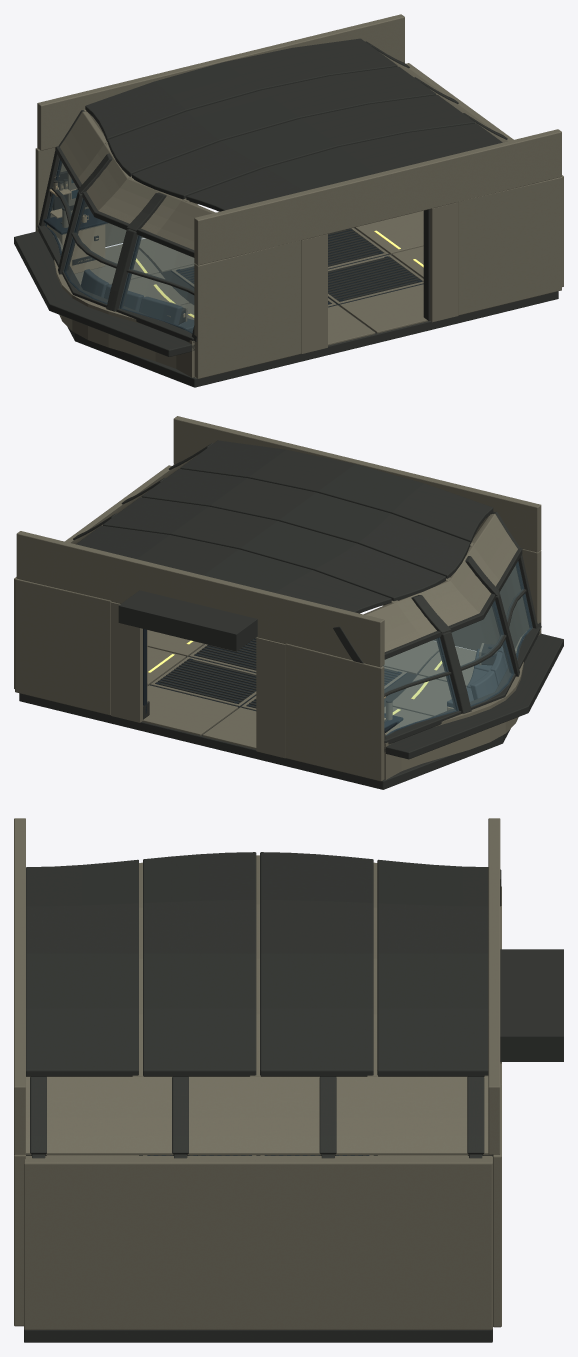
File: cruz-del-sur-arrival-room.glb
3 views of the same model, one above another, from view 1: azimuth 30°, elevation 25°; view 2: azimuth 150°, elevation 25°; view 3: azimuth 270°, elevation 25° (orthographic). The views are drawn at different scales.
Visible parts, largest first — view 1: ARRIVAL_RUNTIME_ARRIVAL_V4_Warm_grey_panels_runtime, ARRIVAL_RUNTIME_ARRIVAL_V4_Graphite_frame_runtime, ARRIVAL_RUNTIME_ARRIVAL_V4_Glazing_runtime, ARRIVAL_RUNTIME_ARRIVAL_V4_Gaskets_runtime, ARRIVAL_RUNTIME_ARRIVAL_V4_Bench_cushions_runtime, ARRIVAL_RUNTIME_ARRIVAL_V4_Ivory_cabinets_runtime; view 2: ARRIVAL_RUNTIME_ARRIVAL_V4_Warm_grey_panels_runtime, ARRIVAL_RUNTIME_ARRIVAL_V4_Graphite_frame_runtime, ARRIVAL_RUNTIME_ARRIVAL_V4_Glazing_runtime, ARRIVAL_RUNTIME_ARRIVAL_V4_Gaskets_runtime, ARRIVAL_RUNTIME_ARRIVAL_V4_Bench_cushions_runtime; view 3: ARRIVAL_RUNTIME_ARRIVAL_V4_Warm_grey_panels_runtime, ARRIVAL_RUNTIME_ARRIVAL_V4_Graphite_frame_runtime.
Boxes of the visible parts, x1,y1,x2,y2 form: ARRIVAL_RUNTIME_ARRIVAL_V4_Warm_grey_panels_runtime: (35,14,563,378); ARRIVAL_RUNTIME_ARRIVAL_V4_Graphite_frame_runtime: (14,38,558,387); ARRIVAL_RUNTIME_ARRIVAL_V4_Glazing_runtime: (45,159,193,332); ARRIVAL_RUNTIME_ARRIVAL_V4_Gaskets_runtime: (43,159,423,333); ARRIVAL_RUNTIME_ARRIVAL_V4_Bench_cushions_runtime: (81,269,194,331); ARRIVAL_RUNTIME_ARRIVAL_V4_Ivory_cabinets_runtime: (47,175,185,317); ARRIVAL_RUNTIME_ARRIVAL_V4_Warm_grey_panels_runtime: (14,416,541,781); ARRIVAL_RUNTIME_ARRIVAL_V4_Graphite_frame_runtime: (19,440,563,789); ARRIVAL_RUNTIME_ARRIVAL_V4_Glazing_runtime: (383,561,532,735); ARRIVAL_RUNTIME_ARRIVAL_V4_Gaskets_runtime: (143,561,532,735); ARRIVAL_RUNTIME_ARRIVAL_V4_Bench_cushions_runtime: (447,636,508,707); ARRIVAL_RUNTIME_ARRIVAL_V4_Warm_grey_panels_runtime: (14,818,501,1329); ARRIVAL_RUNTIME_ARRIVAL_V4_Graphite_frame_runtime: (24,852,563,1342).
Size of the model in its own units: 10.08 by 3.74 by 7.26.
Materials: 15 (4 with a texture image).
